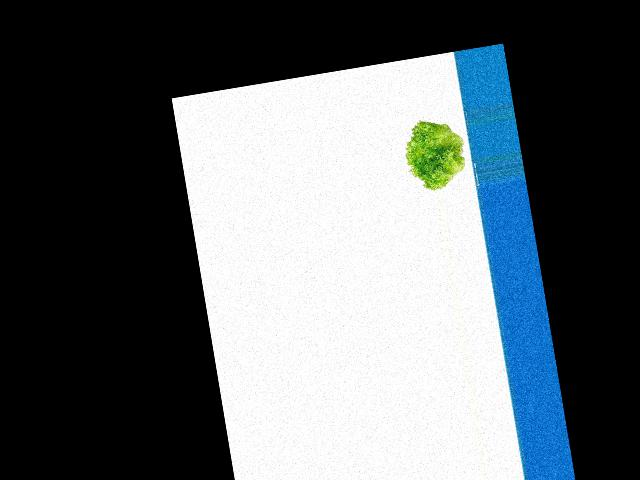lettuce: (398, 115, 474, 194)
